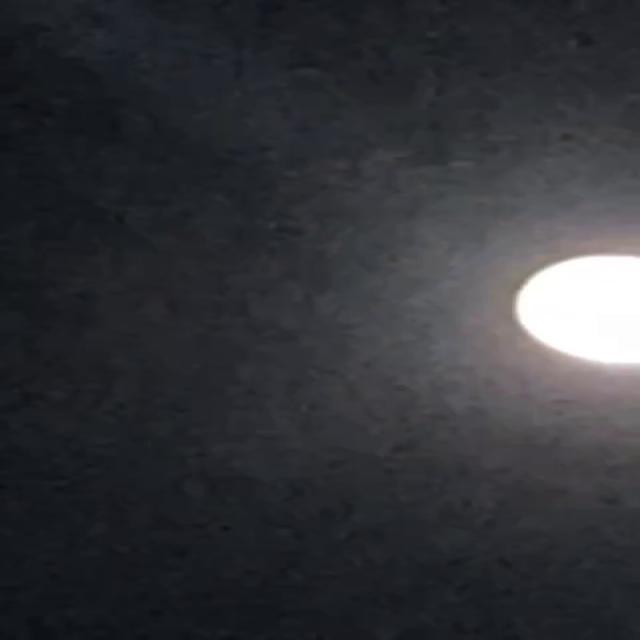moon: (512, 256, 640, 363)
